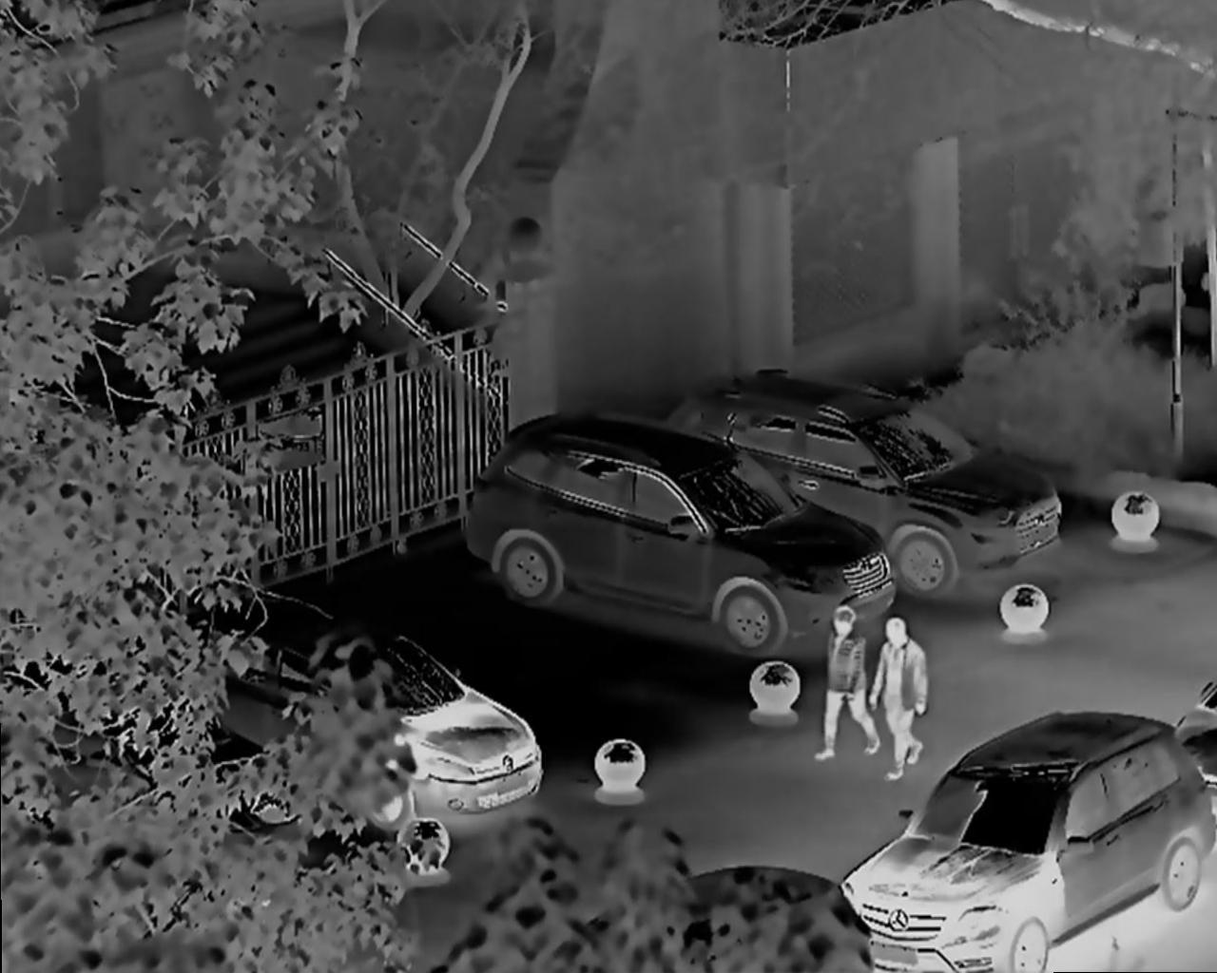person: (878, 603, 937, 771), (820, 606, 882, 758)
